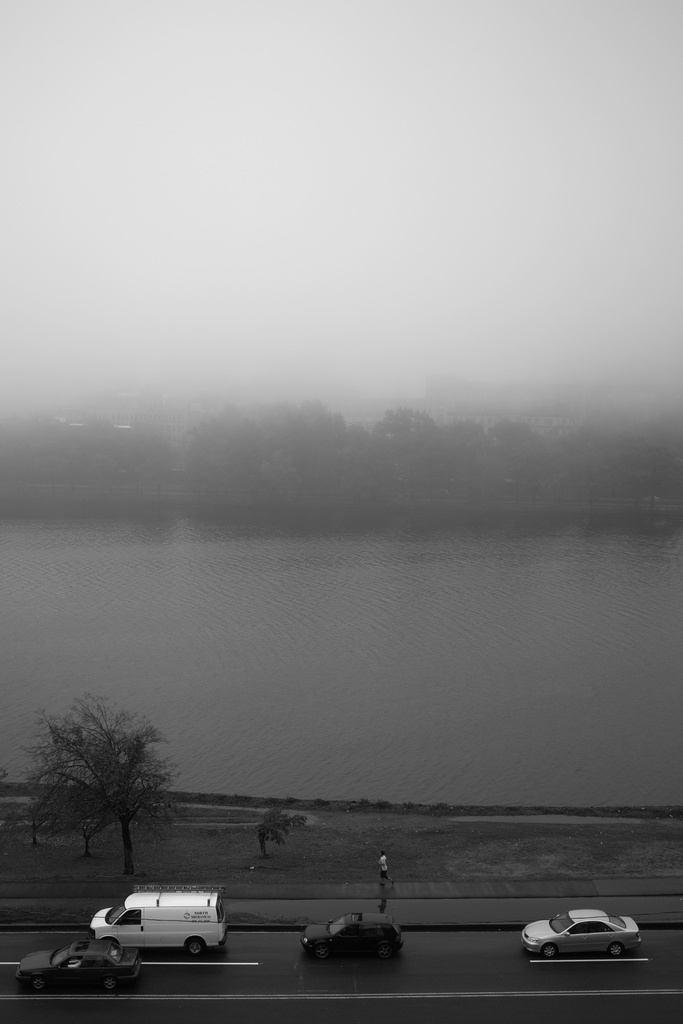cars: (13, 941, 141, 990), (520, 909, 640, 959), (302, 909, 402, 959)
